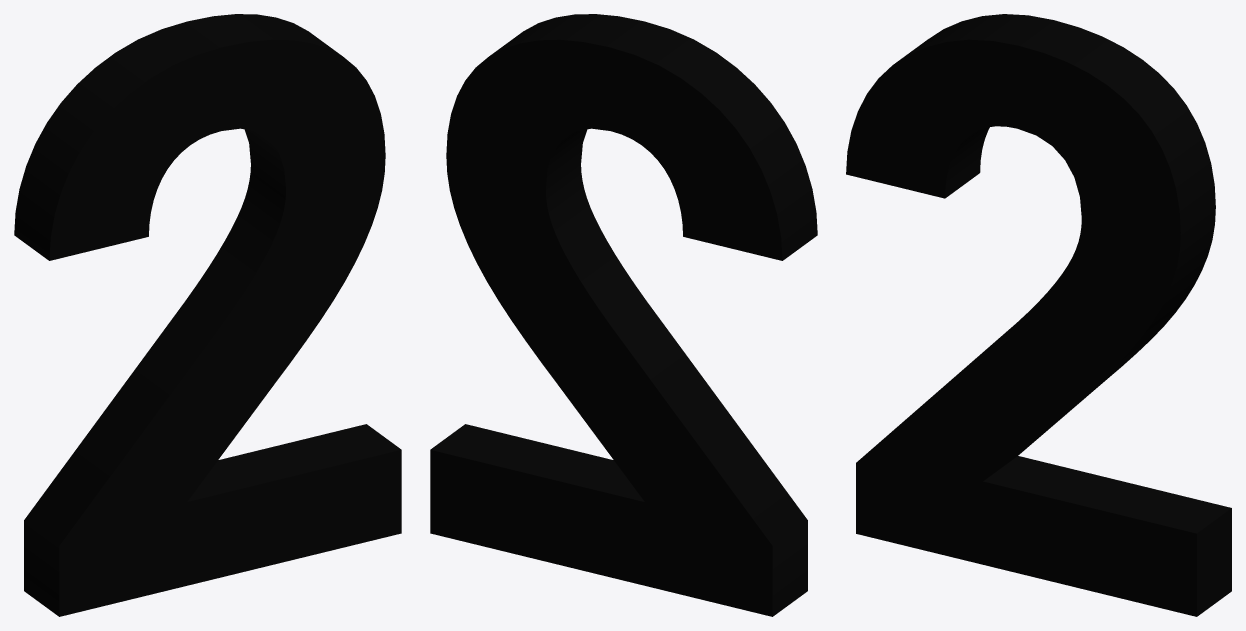
File: two.fbx
3 renders of one model, left to right at view 1: azimuth 30°, elevation 25°; view 2: azimuth 150°, elevation 25°; view 3: azimuth 330°, elevation 25°, orthographic.
Parts seen in each view (by area): view 1: node_id209; view 2: node_id209; view 3: node_id209.
Boxes of the visible parts, x1=… form: node_id209: x1=14, y1=14, x2=401, y2=616; node_id209: x1=430, y1=14, x2=817, y2=616; node_id209: x1=846, y1=14, x2=1231, y2=616.
Bounding box in the file's own units: 0.1828 × 0.2628 × 0.0316.
1 material, 1 textured.
